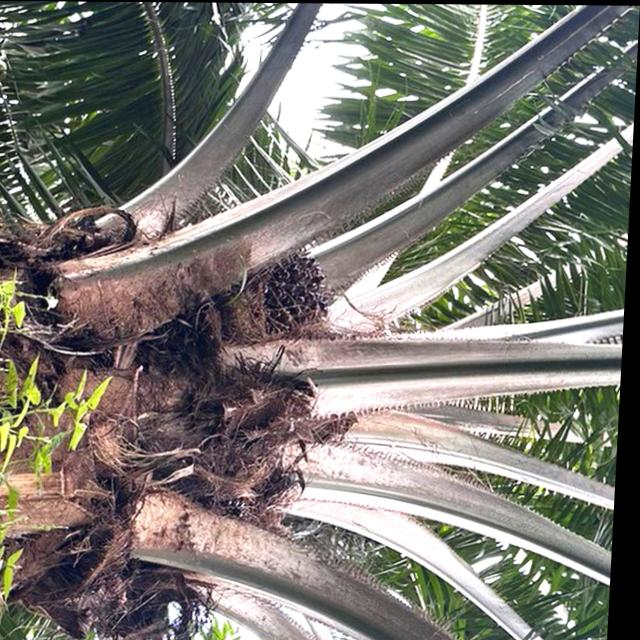almost: (251, 238, 346, 347)
